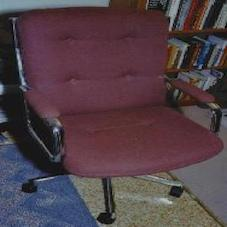chair: (7, 4, 222, 221)
